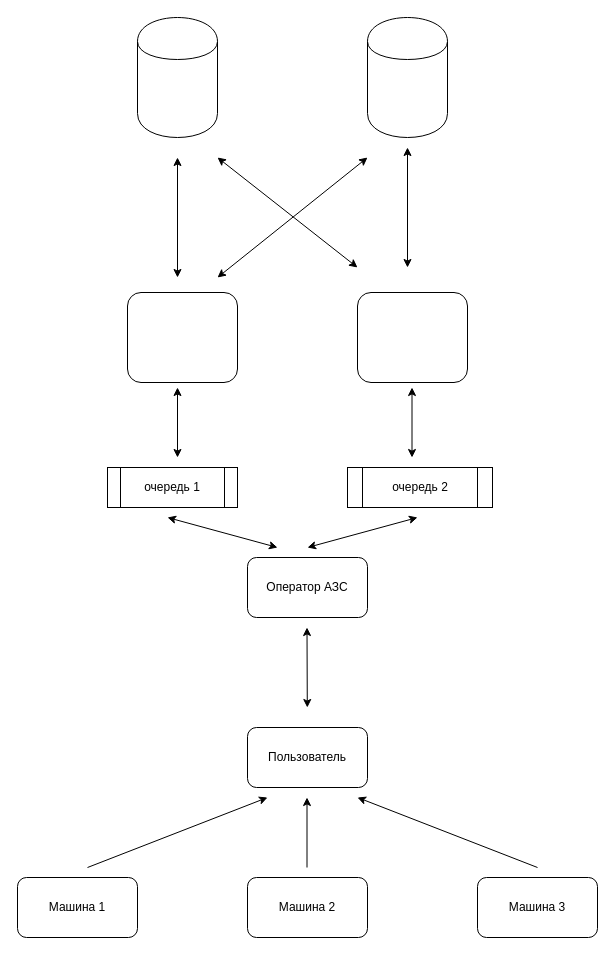
The diagram is 615 pixels wide and 955 high, and some of its shapes have lost their labels. The centre of each missing label's shape, as x and y in pixels:
"Колонка 1" belongs at point (182, 337).
"Колонка 2" belongs at point (412, 337).
"Хранилище АИ-92" belongs at point (407, 77).
"Хранилище АИ-95" belongs at point (177, 77).
